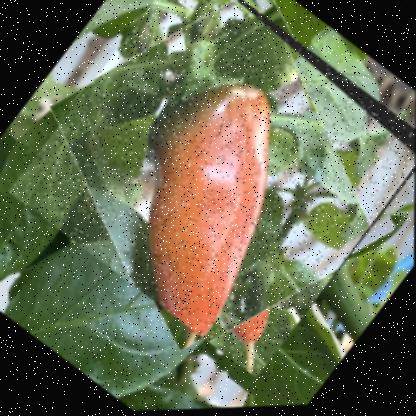capsicum: (5, 0, 415, 388)
